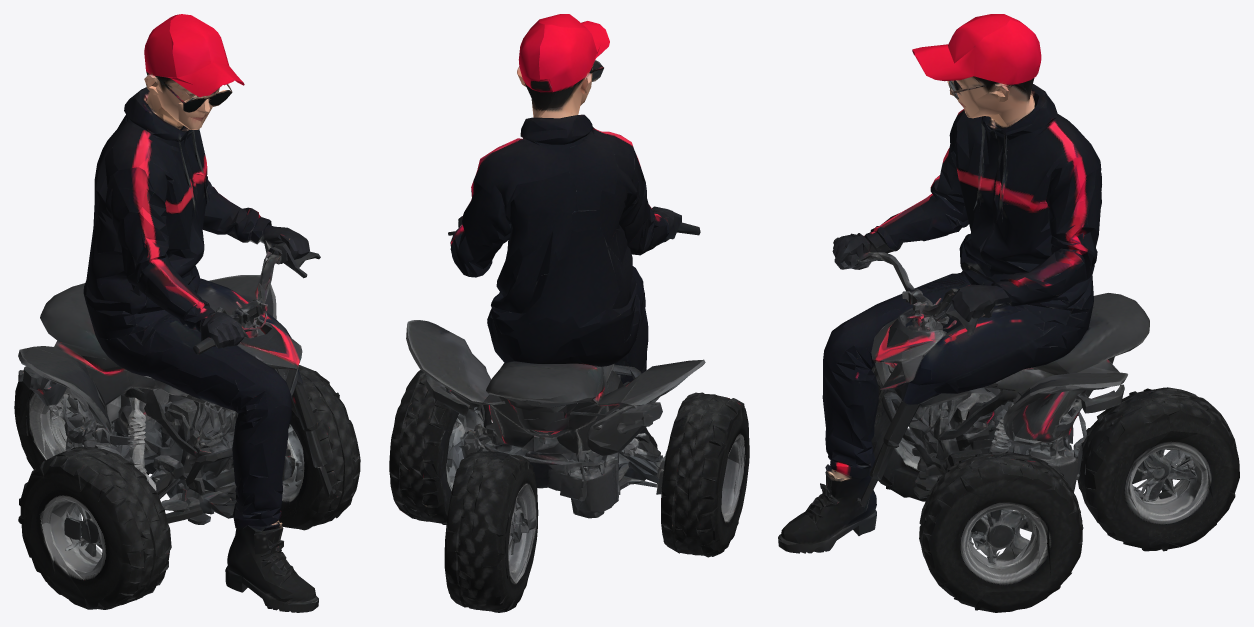
The model's file is pilote-quad.glb.
The picture shows the model from 3 angles, left to right: view 1: azimuth 30°, elevation 25°; view 2: azimuth 150°, elevation 25°; view 3: azimuth 270°, elevation 25°; orthographic projection. The views are drawn at different scales.
Bounding box in the file's own units: 1.16 × 1.9 × 1.49.
Materials: 1 (1 with a texture image).
